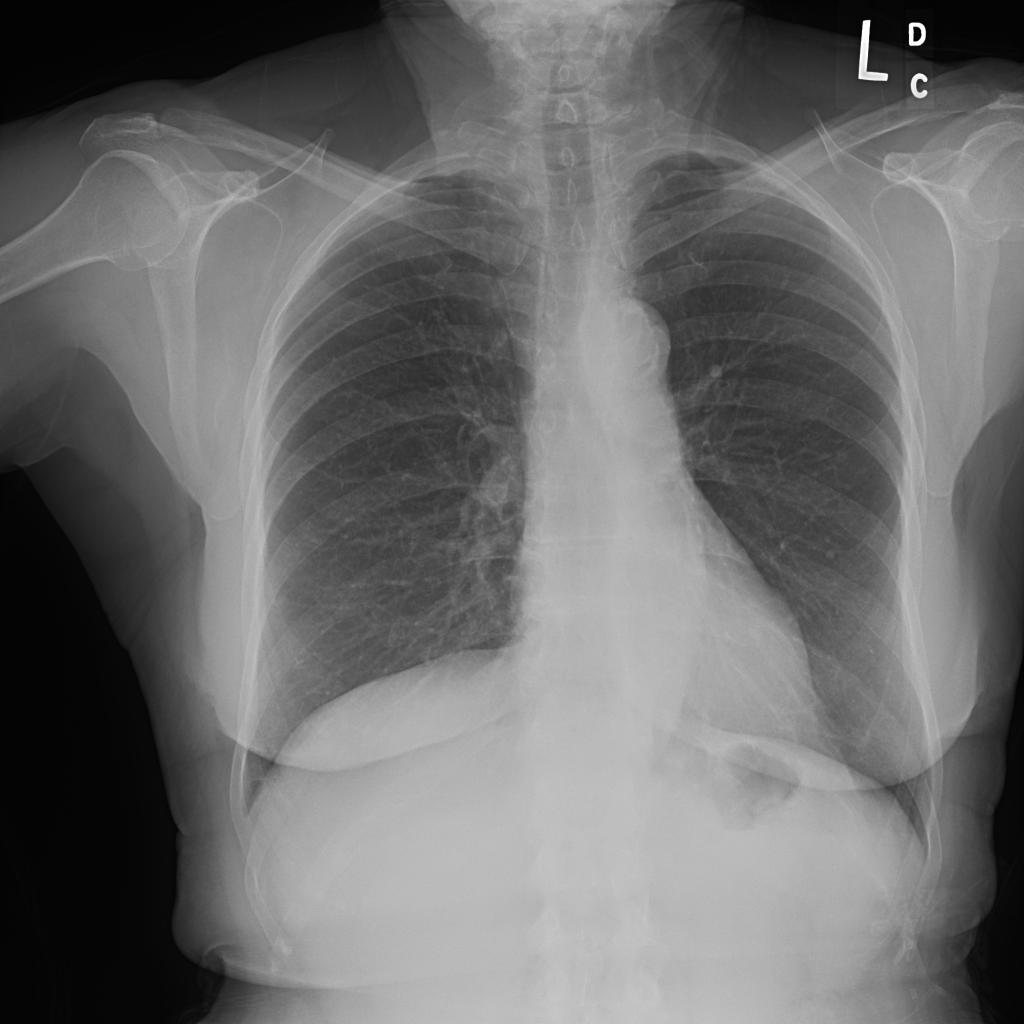Nodule: (137, 270, 163, 294), (399, 197, 423, 222), (417, 221, 441, 245), (131, 297, 155, 319)
